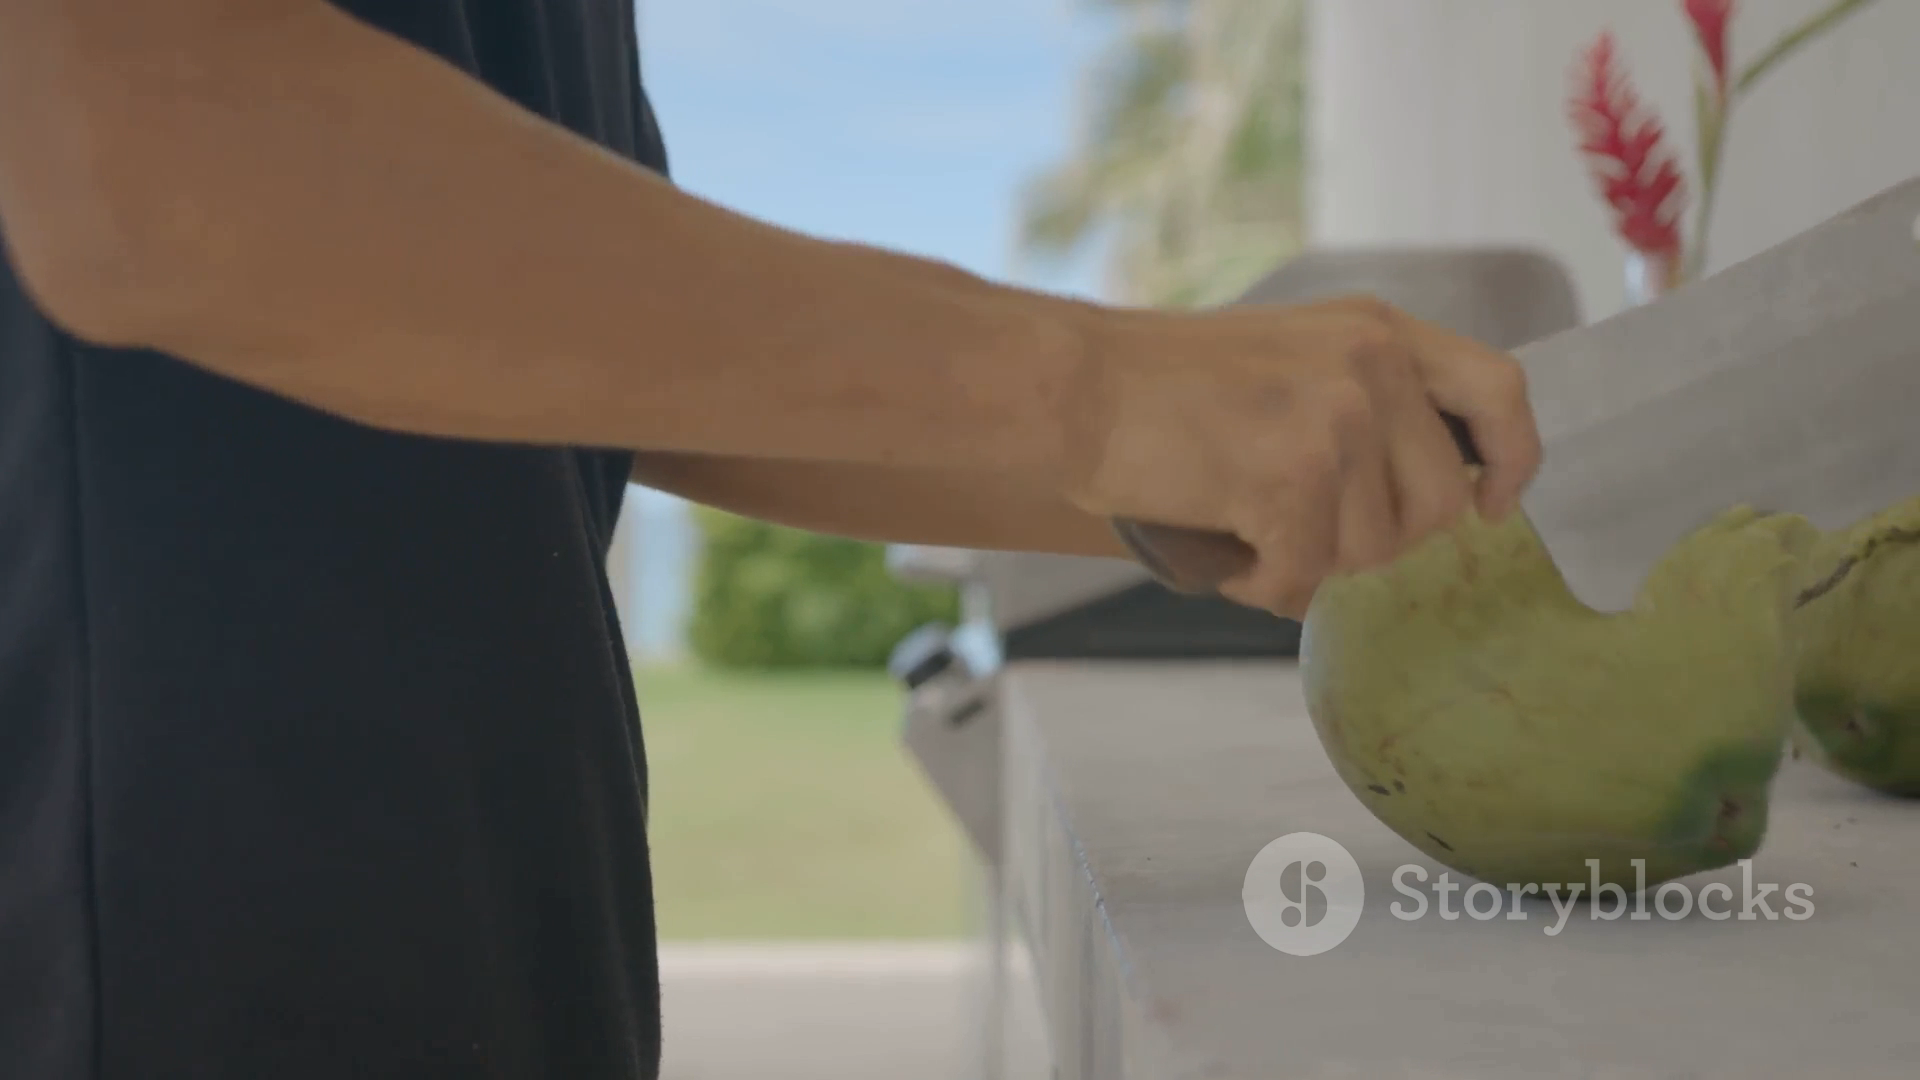cortante: (1509, 177, 1920, 612)
